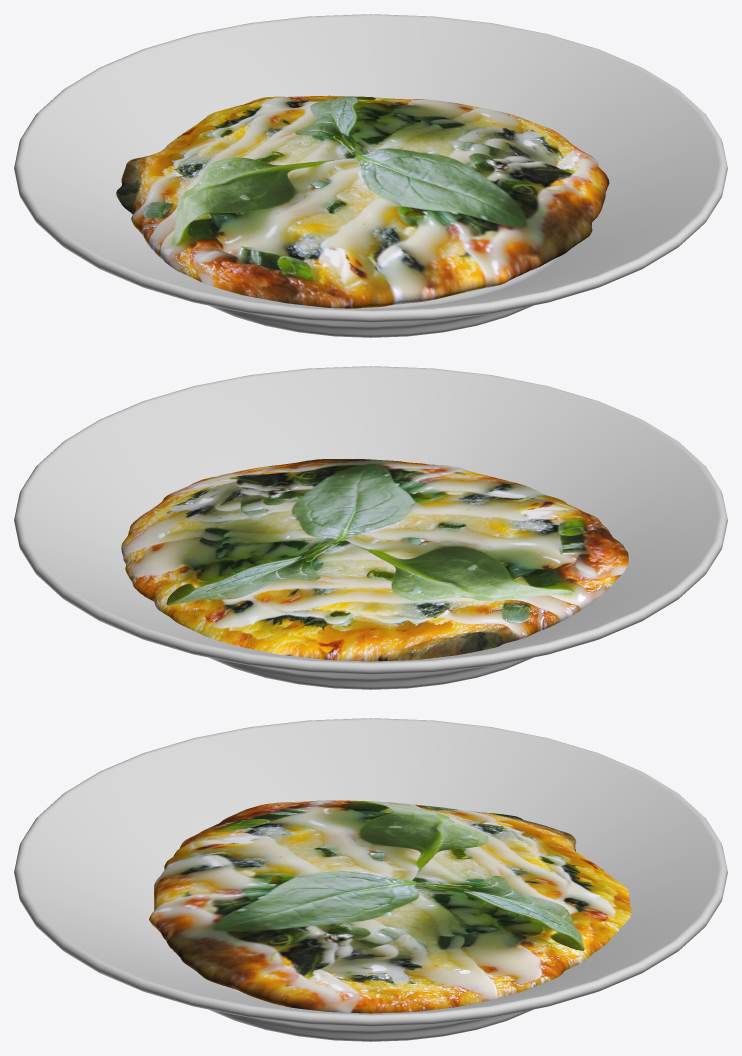
Rendered from omlet.glb.
The picture shows the model from 3 angles, top to bottom: view 1: azimuth 30°, elevation 25°; view 2: azimuth 150°, elevation 25°; view 3: azimuth 270°, elevation 25°; orthographic projection.
Parts seen in each view (by area): view 1: root, mm_frame.obj; view 2: root, mm_frame.obj; view 3: root, mm_frame.obj.
Boxes of the visible parts, x1,y1,x2,y2 form: root: [14, 14, 727, 337]; mm_frame.obj: [116, 95, 609, 308]; root: [14, 366, 727, 689]; mm_frame.obj: [121, 459, 628, 661]; root: [14, 718, 727, 1041]; mm_frame.obj: [149, 800, 631, 1013].
Size of the model in its own units: 0.15 by 0.02 by 0.15.
2 materials, 1 textured.
